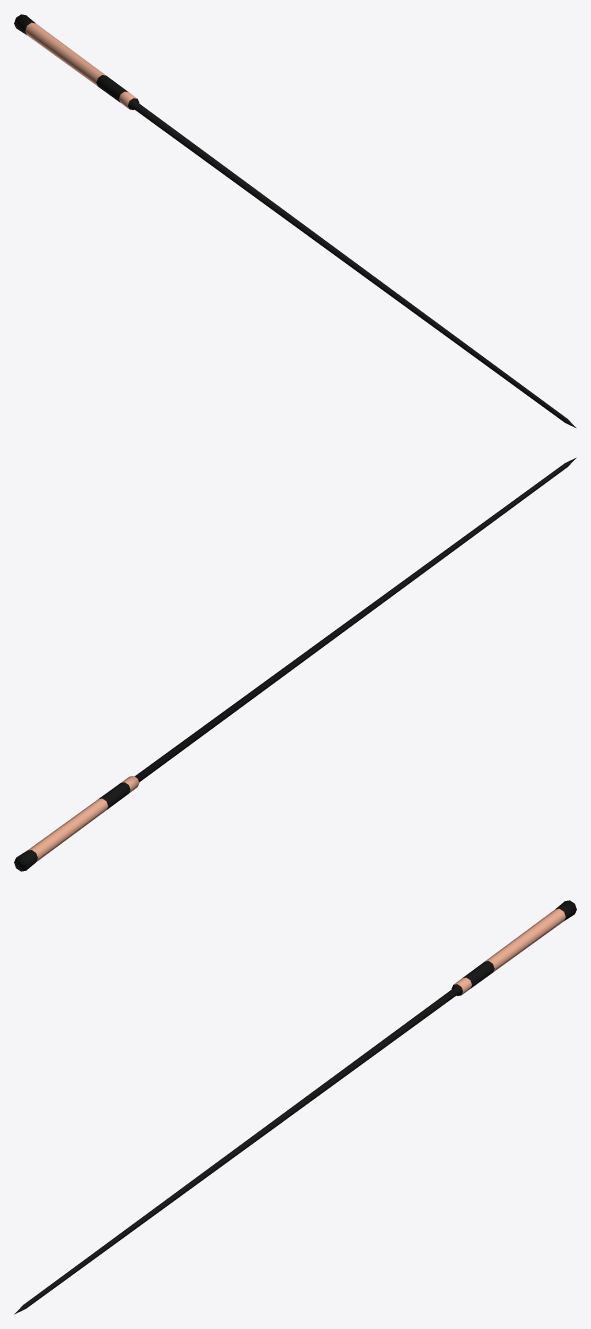
Rendered from fishing_rod.glb.
The picture shows the model from 3 angles, top to bottom: view 1: azimuth 30°, elevation 25°; view 2: azimuth 150°, elevation 25°; view 3: azimuth 330°, elevation 25°; orthographic projection.
Parts seen in each view (by area): view 1: fishing_rod; view 2: fishing_rod; view 3: fishing_rod.
Part boxes in pixels (box(x1,y1,x2,y2)): fishing_rod: box(14, 14, 576, 428); fishing_rod: box(14, 457, 576, 871); fishing_rod: box(14, 900, 576, 1314).
Bounding box in the file's own units: 0.0119 × 0.0119 × 0.8.
